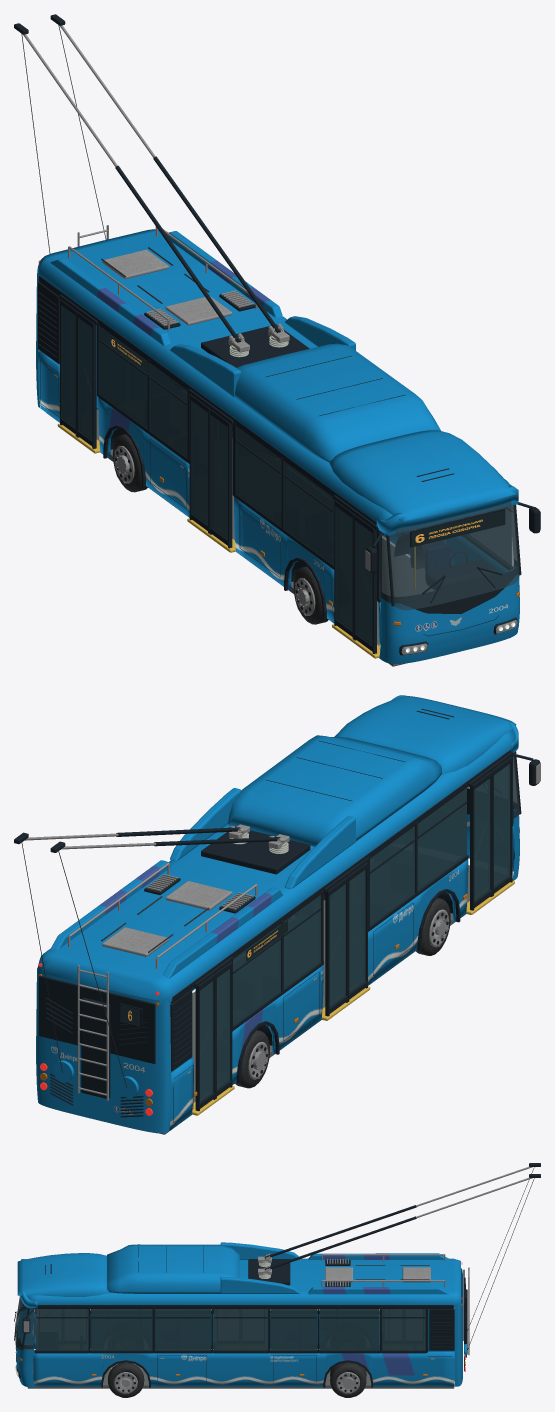
Rendered from bkm32100d.raw.glb.
3 renders of one model, top to bottom at view 1: azimuth 30°, elevation 25°; view 2: azimuth 150°, elevation 25°; view 3: azimuth 270°, elevation 25°, orthographic. The views are drawn at different scales.
Parts seen in each view (by area): view 1: body-shell--review-blue-body--lod1, body-shell--review-black-frames--lod1, body-shell--review-side-glass--lod1, body-shell--review-side-glass--lod2, body-shell--review-windshield--lod1, body-shell--review-windshield--lod2, body-shell--review-wheel-and-hardware--lod1, body-shell--review-floor--lod1, door-front-rearward-pivot--review-side-glass--lod1, door-middle-forward-pivot--review-side-glass--lod1, door-front-rearward-pivot--review-side-glass--lod2, body-shell--vehicle-destination-display--lod1 (+19 smaller); view 2: body-shell--review-blue-body--lod1, body-shell--review-black-frames--lod1, body-shell--review-side-glass--lod1, body-shell--review-side-glass--lod2, body-shell--review-wheel-and-hardware--lod1, door-front-rearward-pivot--review-side-glass--lod1, door-middle-forward-pivot--review-side-glass--lod1, door-front-forward-pivot--review-side-glass--lod1, door-middle-rearward-pivot--review-side-glass--lod1, door-middle-forward-pivot--review-side-glass--lod2, door-front-forward-pivot--review-side-glass--lod2, door-middle-rearward-pivot--review-side-glass--lod2 (+21 smaller); view 3: body-shell--review-blue-body--lod1, body-shell--review-side-glass--lod1, body-shell--review-side-glass--lod2, body-shell--review-black-frames--lod1, body-shell--review-wheel-and-hardware--lod1, body-shell--review-floor--lod1, body-shell--review-windshield--lod1, body-shell--review-windshield--lod2, wheel-spin-rear-right--review-tire-rubber--lod1, wheel-spin-front-right--review-tire-rubber--lod1, pole-left-shaft-lower--review-black-frames--lod1, pole-right-shaft-lower--review-black-frames--lod1 (+7 smaller).
Part boxes in pixels (x1,y1,x2,y2): body-shell--review-blue-body--lod1: (36,229,519,663); body-shell--review-black-frames--lod1: (38,276,521,655); body-shell--review-side-glass--lod1: (99,326,511,598); body-shell--review-side-glass--lod2: (100,327,379,598); body-shell--review-windshield--lod1: (379,502,519,609); body-shell--review-windshield--lod2: (379,502,519,609); body-shell--review-wheel-and-hardware--lod1: (54,225,515,653); body-shell--review-floor--lod1: (46,409,510,666); door-front-rearward-pivot--review-side-glass--lod1: (336,507,352,630); door-middle-forward-pivot--review-side-glass--lod1: (211,416,227,539); door-front-rearward-pivot--review-side-glass--lod2: (336,507,352,629); body-shell--vehicle-destination-display--lod1: (110,335,504,547); body-shell--review-blue-body--lod1: (36,695,519,1133); body-shell--review-black-frames--lod1: (39,708,521,1122); body-shell--review-side-glass--lod1: (233,788,466,1026); body-shell--review-side-glass--lod2: (233,788,466,1025); body-shell--review-wheel-and-hardware--lod1: (68,824,410,1100); door-front-rearward-pivot--review-side-glass--lod1: (474,778,490,901); door-middle-forward-pivot--review-side-glass--lod1: (349,869,365,992); door-front-forward-pivot--review-side-glass--lod1: (494,764,510,887); door-middle-rearward-pivot--review-side-glass--lod1: (329,884,345,1007); door-middle-forward-pivot--review-side-glass--lod2: (349,870,365,992); door-front-forward-pivot--review-side-glass--lod2: (494,764,509,886); door-middle-rearward-pivot--review-side-glass--lod2: (330,884,345,1006); body-shell--review-blue-body--lod1: (16,1242,466,1387); body-shell--review-side-glass--lod1: (35,1309,425,1350); body-shell--review-side-glass--lod2: (36,1309,425,1350); body-shell--review-black-frames--lod1: (15,1246,467,1387); body-shell--review-wheel-and-hardware--lod1: (16,1254,469,1374); body-shell--review-floor--lod1: (27,1349,454,1388); body-shell--review-windshield--lod1: (15,1297,39,1349); body-shell--review-windshield--lod2: (15,1298,38,1349); wheel-spin-rear-right--review-tire-rubber--lod1: (330,1362,366,1397); wheel-spin-front-right--review-tire-rubber--lod1: (108,1362,144,1397); pole-left-shaft-lower--review-black-frames--lod1: (264,1205,416,1258); pole-right-shaft-lower--review-black-frames--lod1: (264,1216,416,1270).
Bounding box in the file's own units: 3.28 × 6.25 × 14.23.
Materials: 17 (6 with a texture image).
